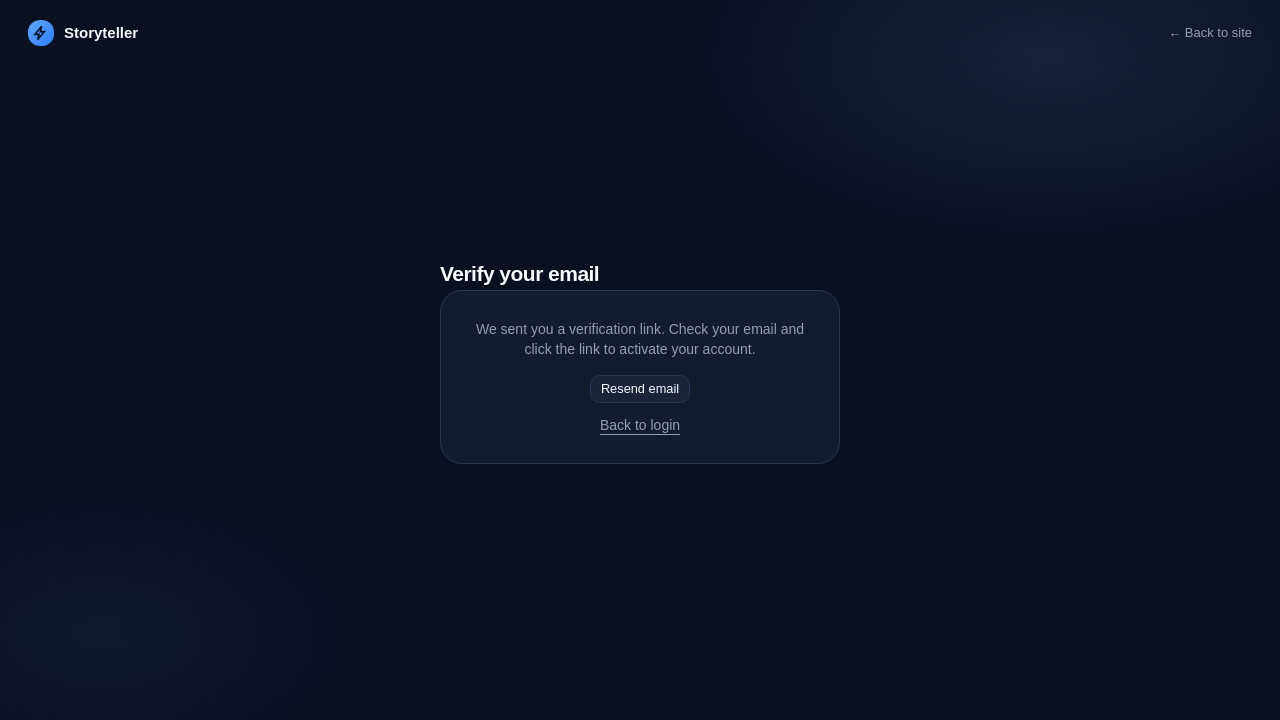
it: VerifyEmailPage › shows error when resend fails
Click the button "Resend email" at (640,389), box [590,375,690,403]
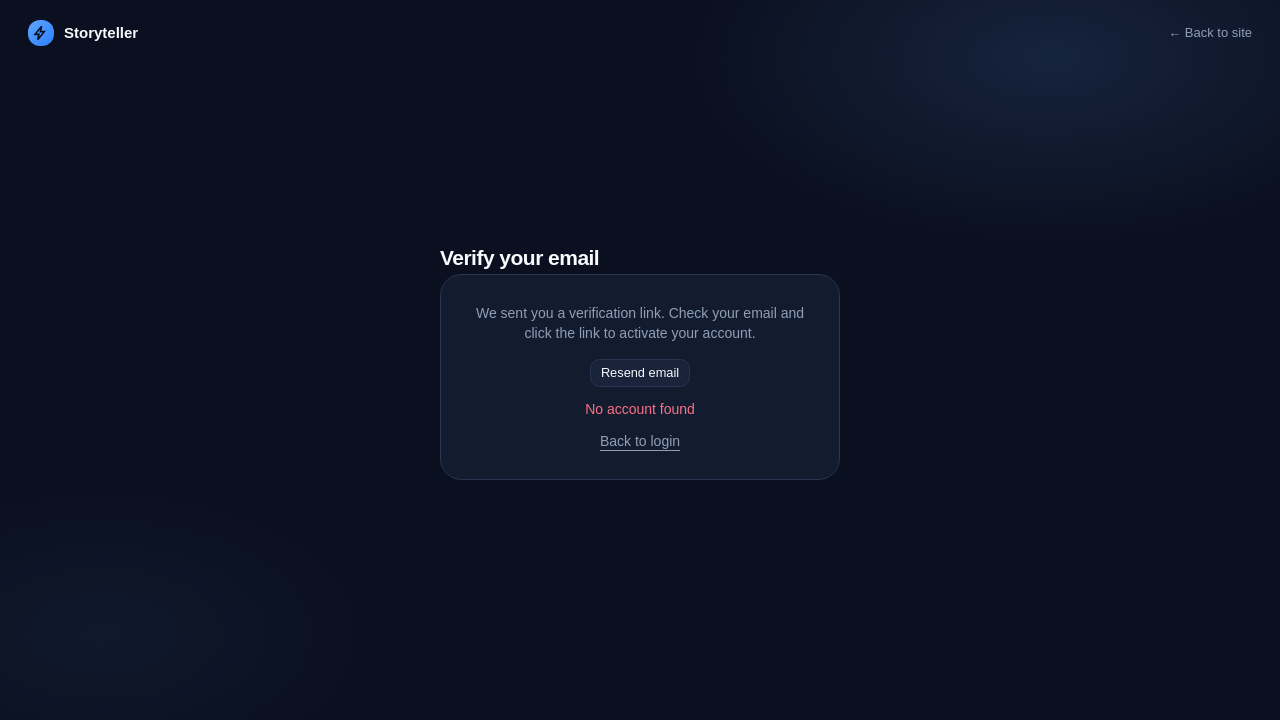
Check: the text "No account found" is shown, box [585,399,695,419]
